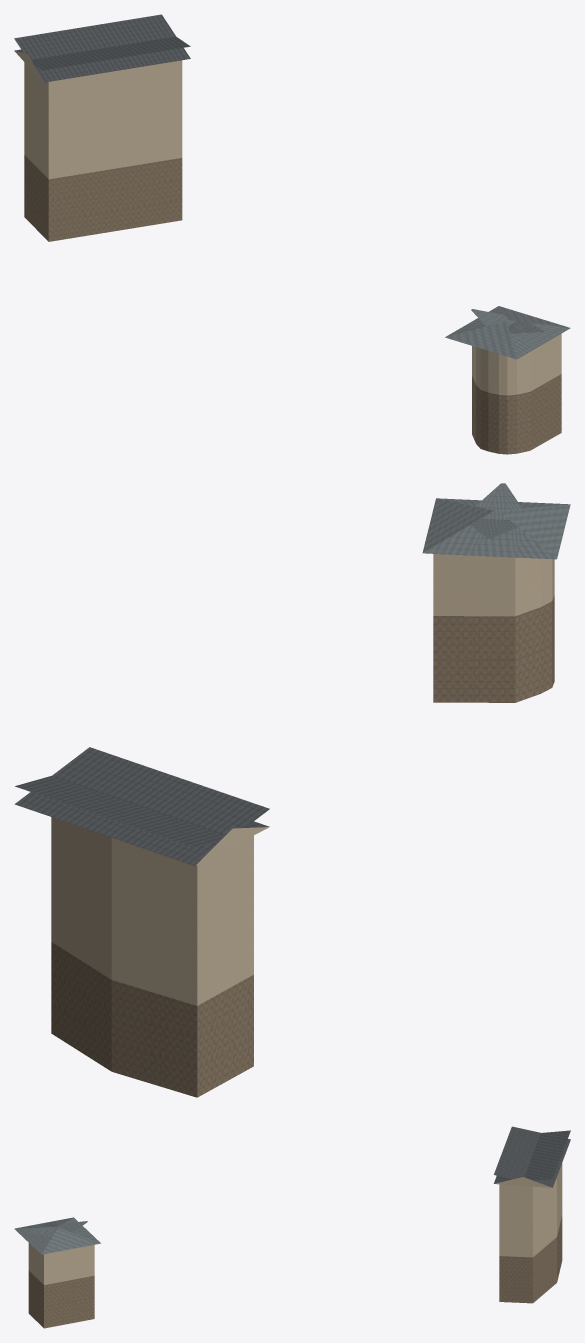
File: bld_c6_9_479.gltf
The picture shows the model from 3 angles, top to bottom: view 1: azimuth 30°, elevation 25°; view 2: azimuth 150°, elevation 25°; view 3: azimuth 270°, elevation 25°; orthographic projection. The views are drawn at different scales.
Visible parts, largest first — view 1: bld_c6_9_479; view 2: bld_c6_9_479; view 3: bld_c6_9_479.
Part boxes in pixels (x1,y1,x2,y2): bld_c6_9_479: (14, 14, 570, 454); bld_c6_9_479: (14, 483, 570, 1097); bld_c6_9_479: (14, 1126, 570, 1328).
Size of the model in its own units: 17.7 by 14.5 by 56.07.
5 materials, 5 textured.
